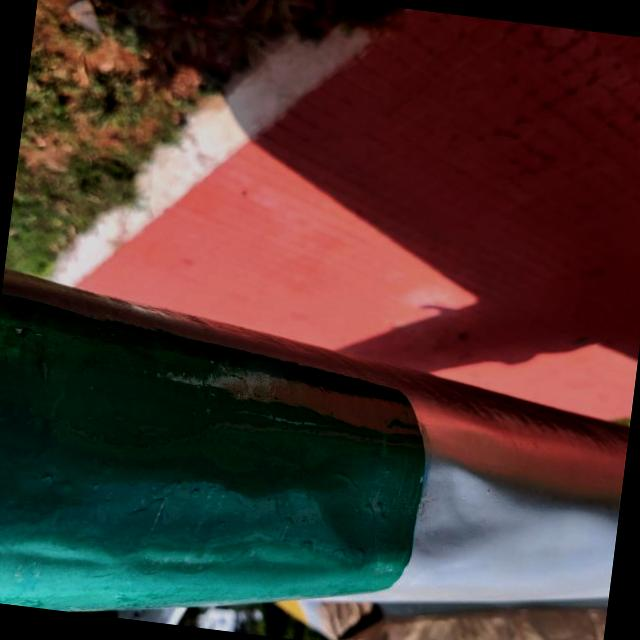dent: (294, 413, 545, 594)
